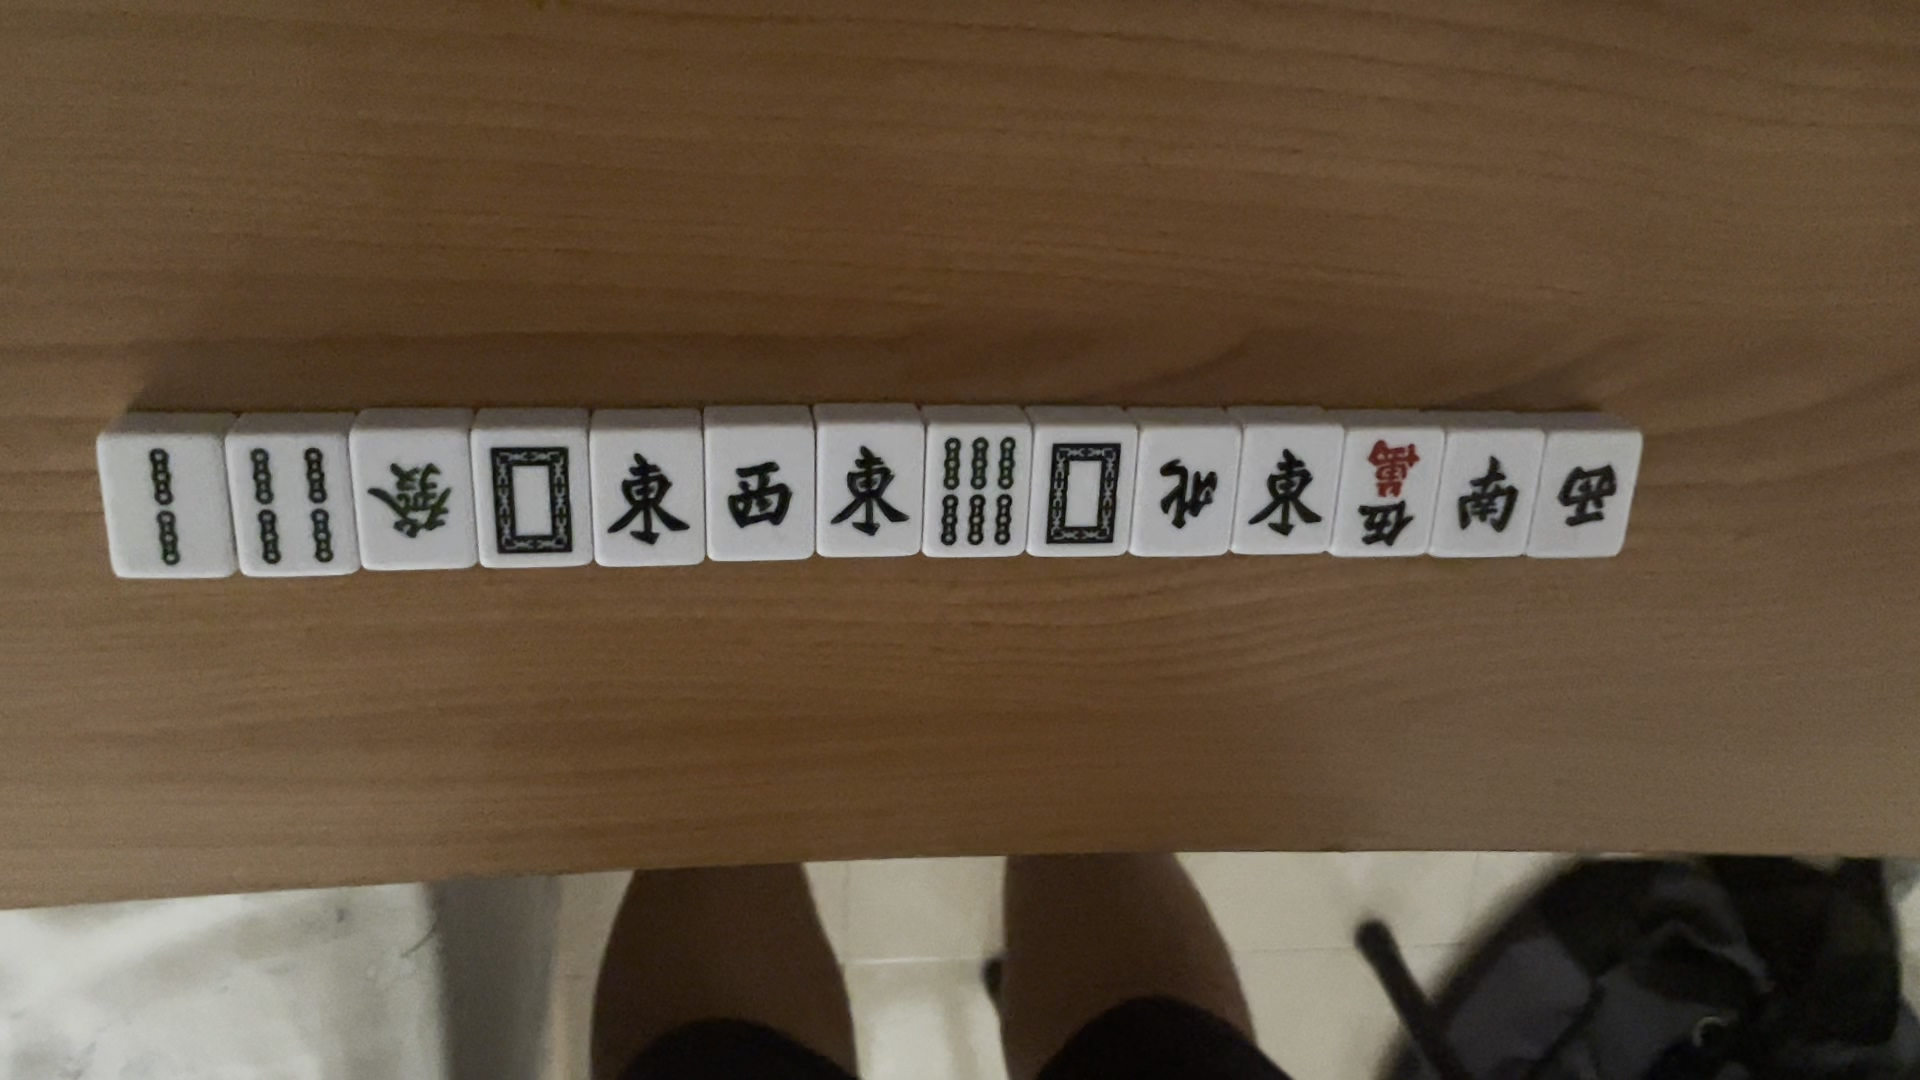b-2: (131, 440, 193, 574)
b-4: (235, 434, 338, 579)
b-6: (934, 433, 1021, 553)
c-5: (1345, 436, 1422, 549)
honors-east: (831, 440, 913, 545), (607, 451, 690, 551), (1244, 446, 1323, 547)
honors-green: (371, 451, 465, 547)
honors-north: (1156, 448, 1226, 538)
honors-south: (1449, 454, 1526, 538)
honors-west: (1548, 447, 1626, 538), (723, 454, 794, 543)
honors-white: (483, 440, 580, 564), (1044, 438, 1124, 549)
